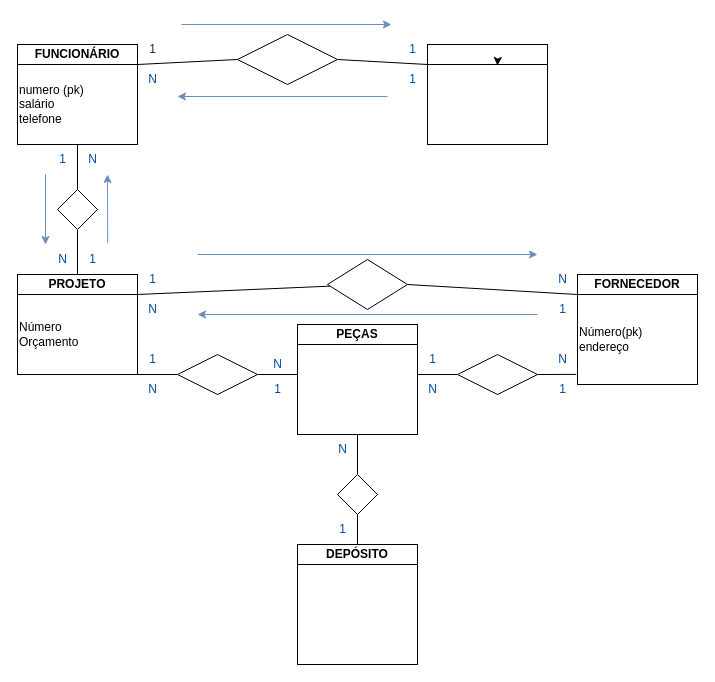
This 715x682 diagram has some shape labels left out. Each missing label, with the centre of its shape:
DEPARTEMENTO: pixel 487 54
Número (pk) Setor: pixel 487 104
Número Endereço: pixel 357 614
Número Peso Cor: pixel 357 389
